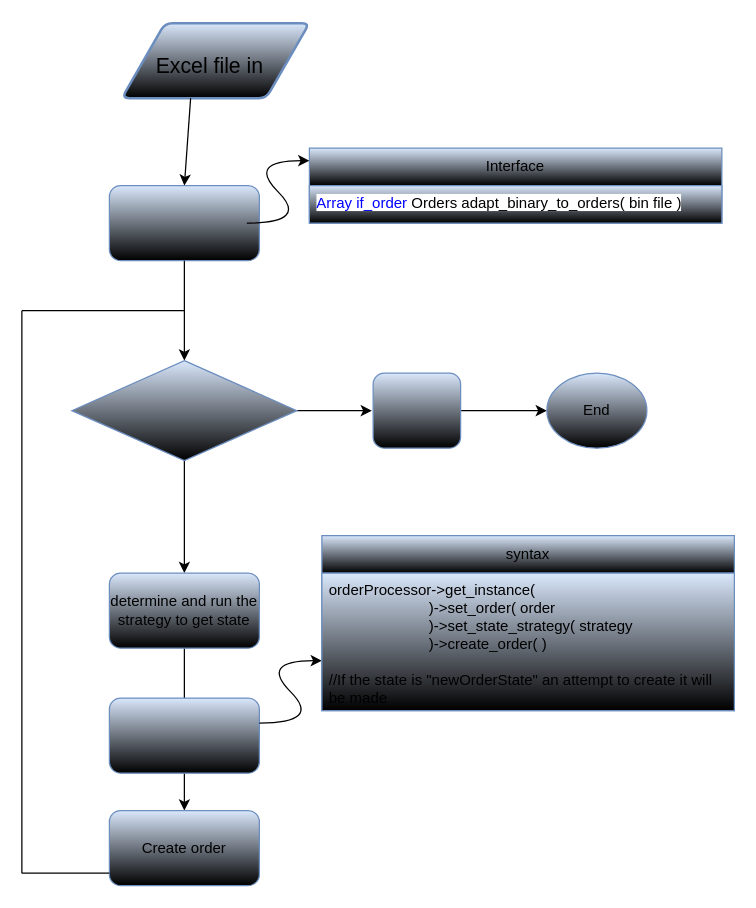
Some shapes in this 756 by 908 pixel diagram are drawn without their labels. The shapes that lost their labels are listed below. From the top down, each one's centre as x and y in pixels, then its label:
At [183,222]: "Convert excel to internal structure".
At [184,410]: "loop orders".
At [416,410]: "Display result".
At [183,735]: "get instance of order processor".
